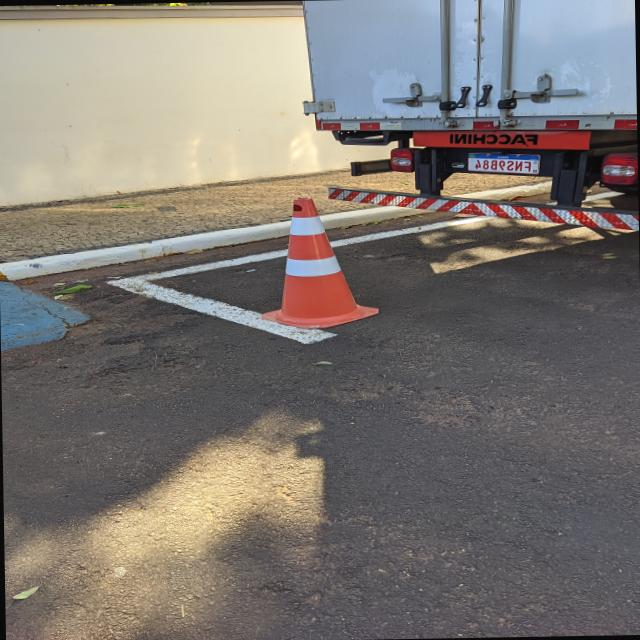cone: (256, 193, 384, 333)
